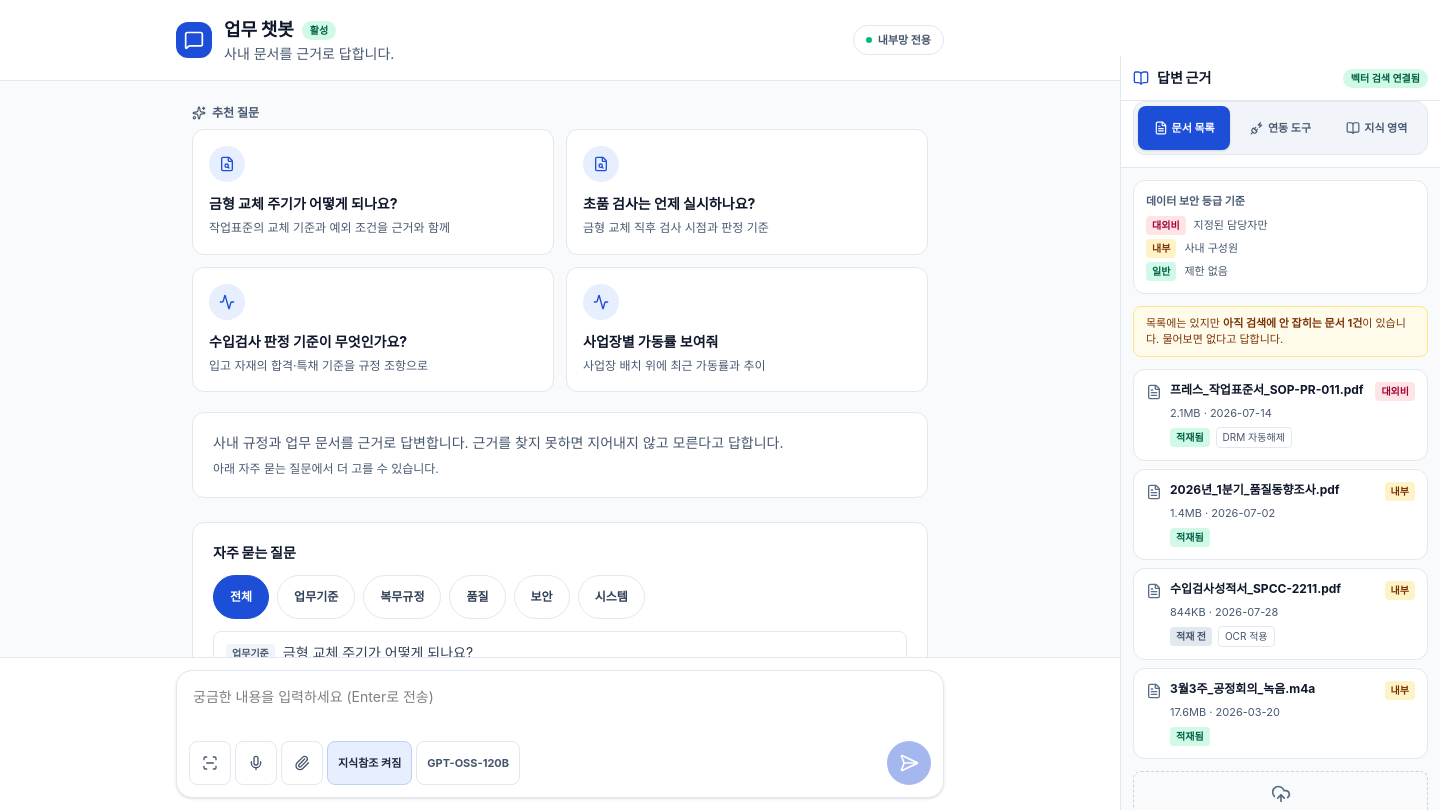
Test: ChatPage › 신뢰도가 낮으면 원문 확인을 권한다
Type "출장 여비 기준" into the text box named "질문 입력".
click(560, 707); type("출장 여비 기준")  # box [185,679,935,735]
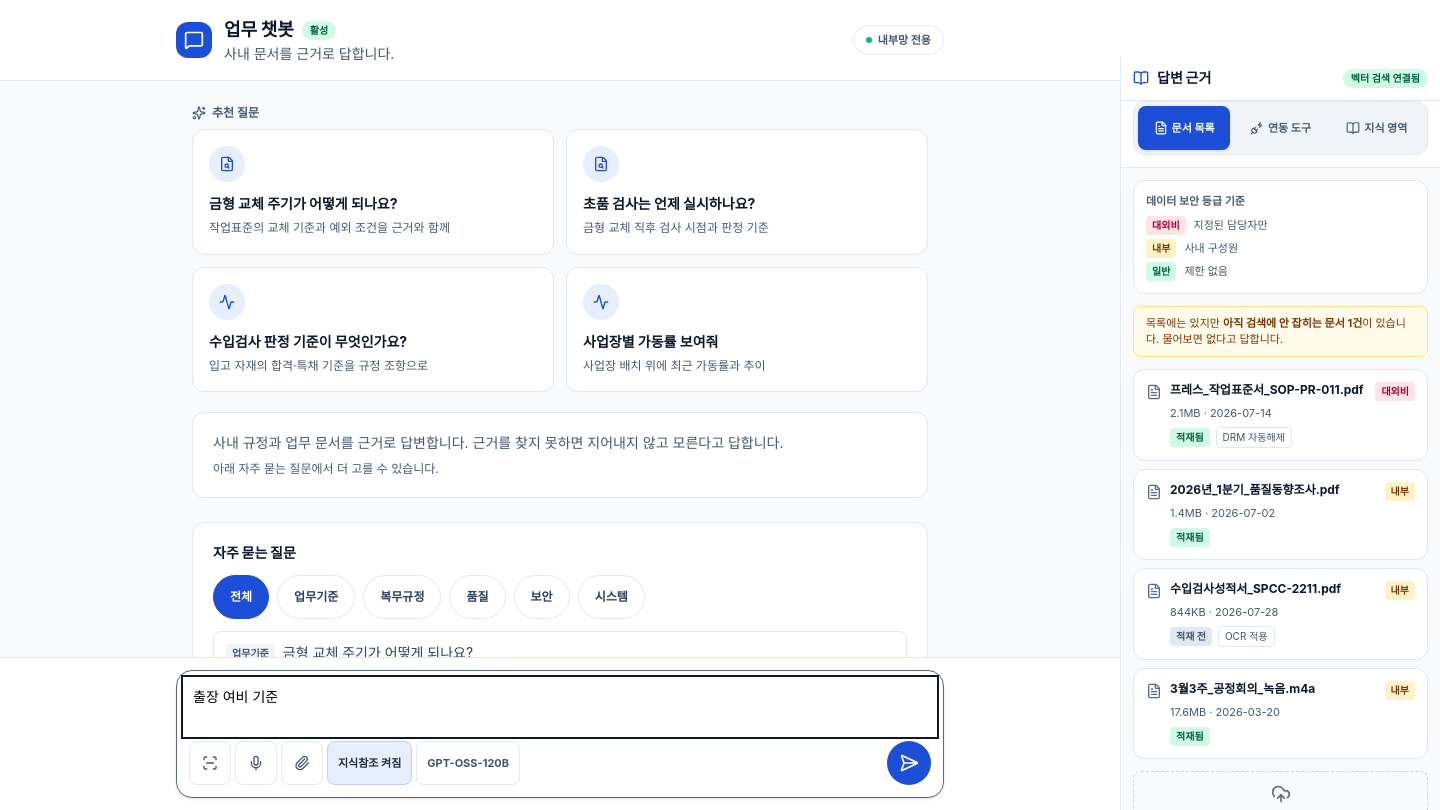
Click the button named "전송".
click(909, 763)  # box [887,741,931,785]
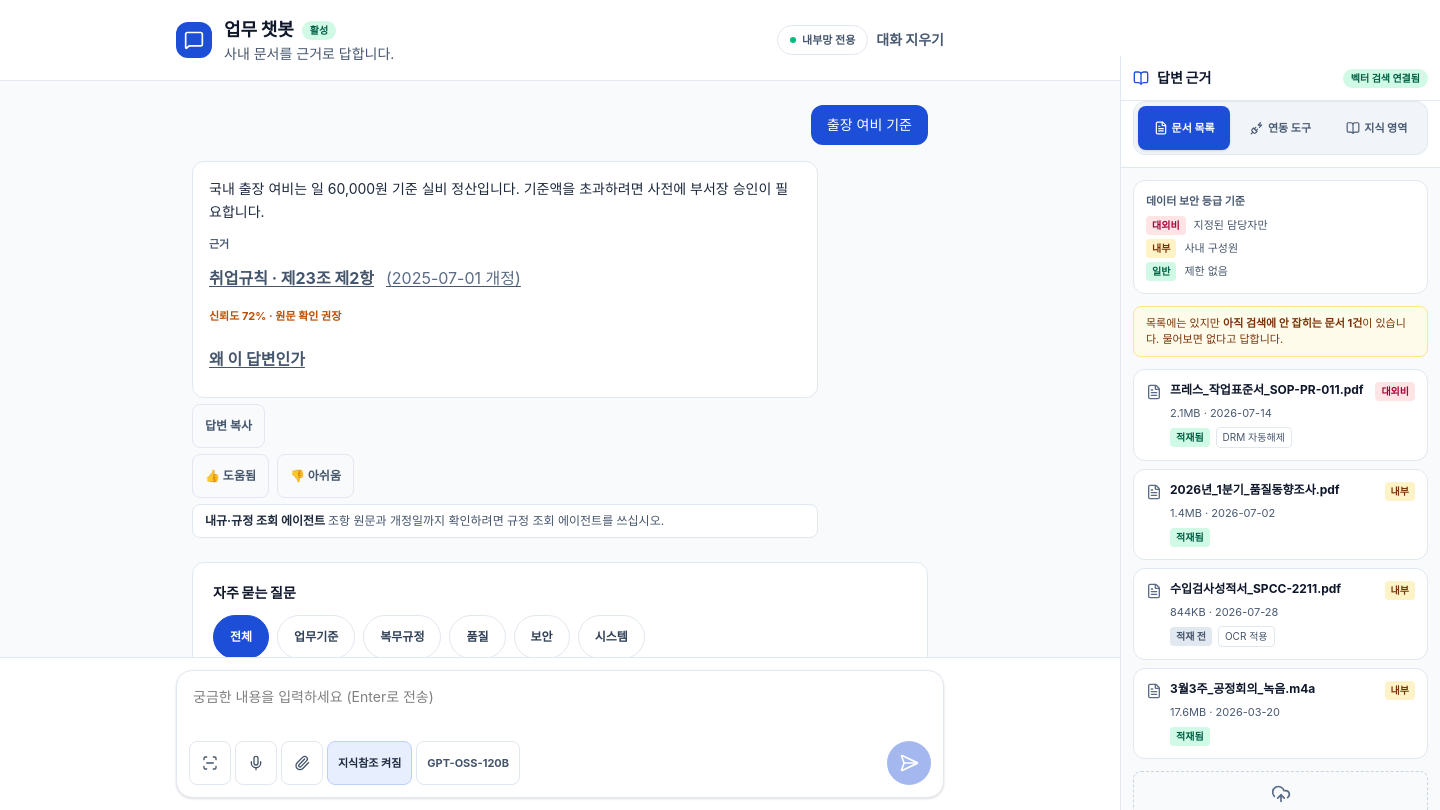
expect the text "신뢰도 72% · 원문 확인 권장" is shown: met, box [209,309,341,323]
